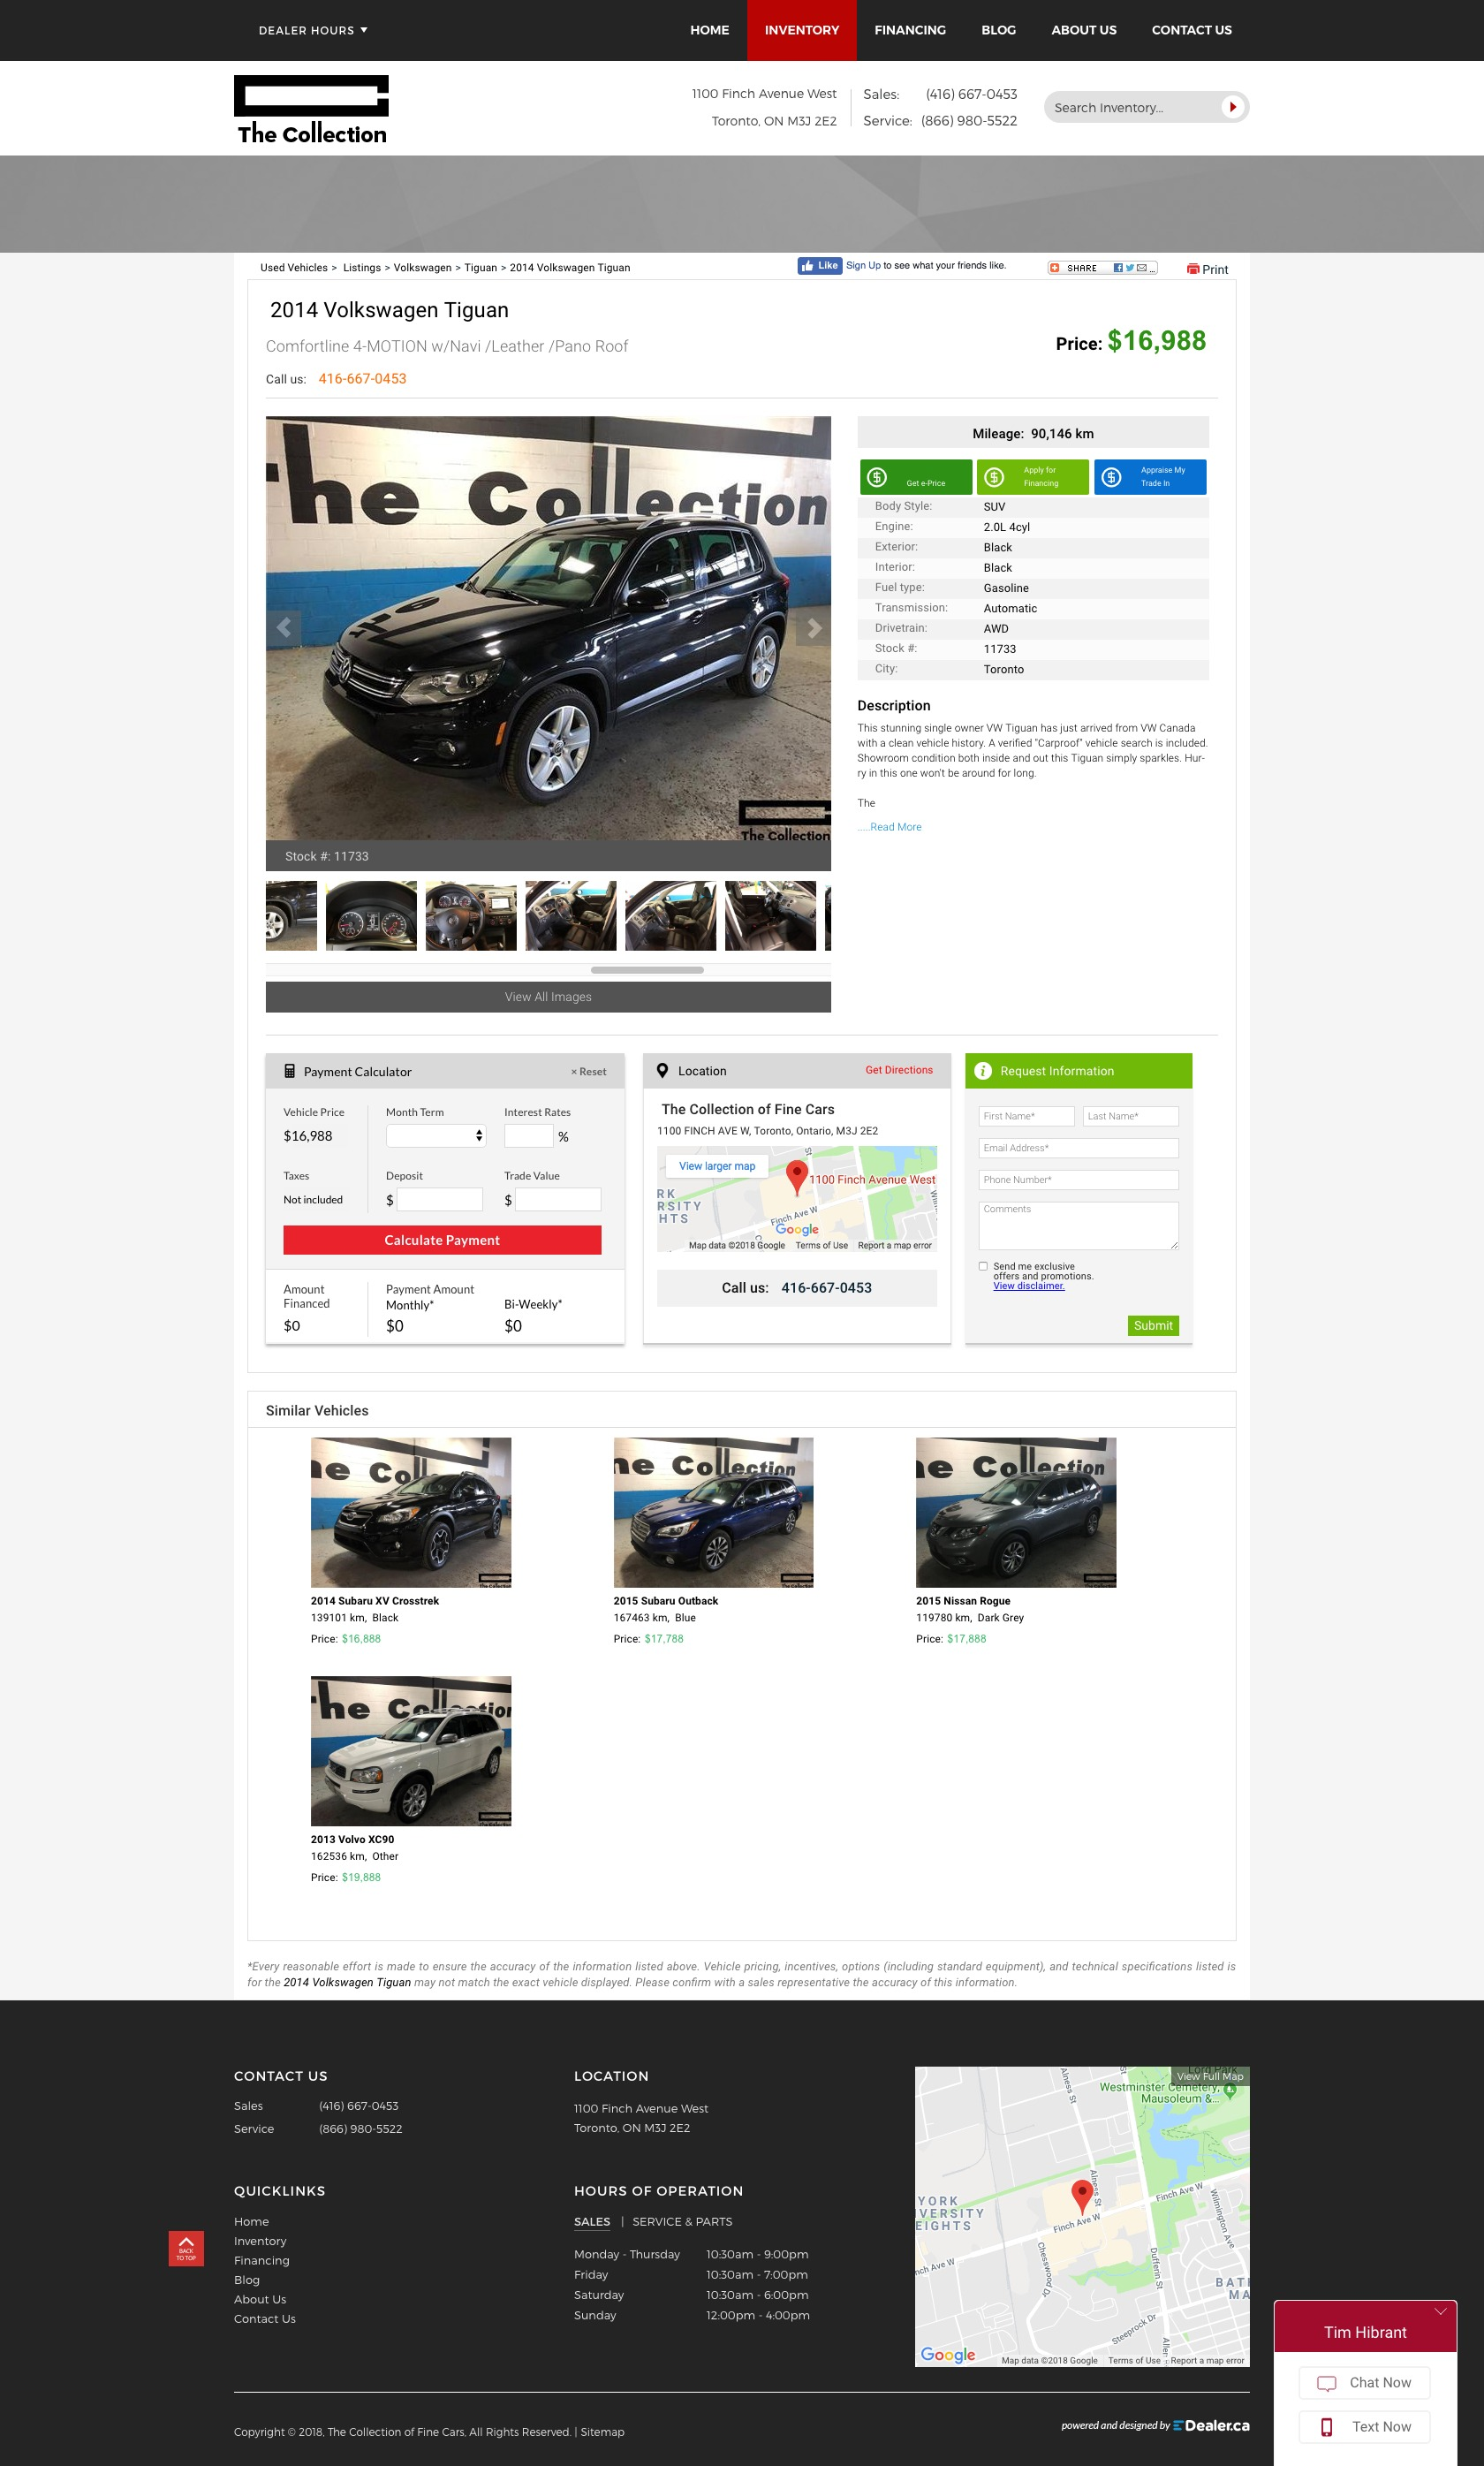car: (794, 609, 834, 648)
